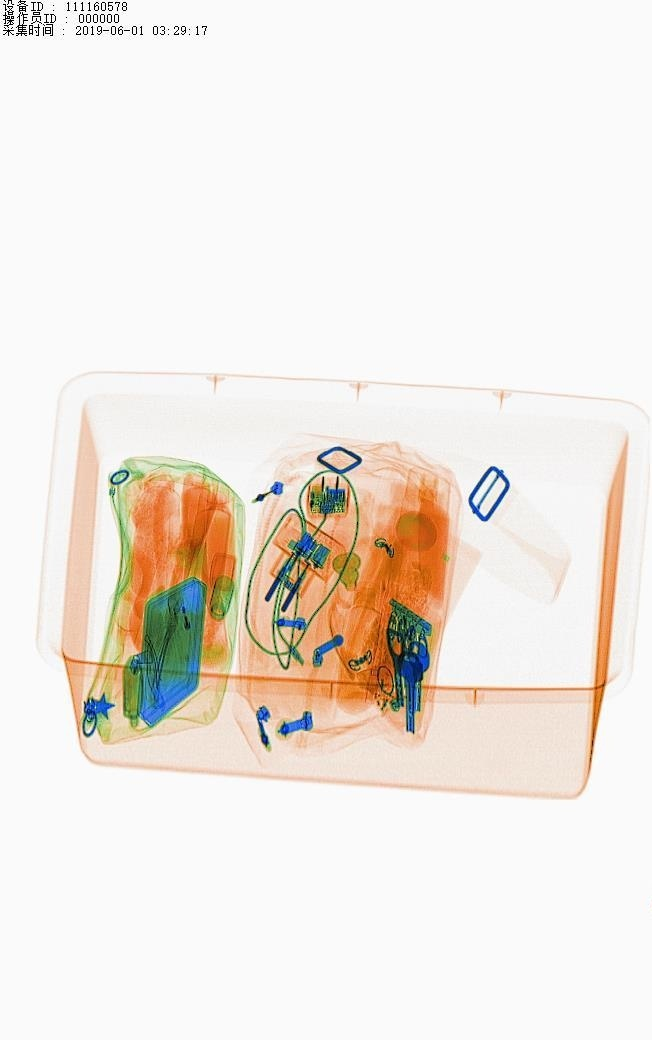NonmetallicFire: (159, 579, 202, 690)
